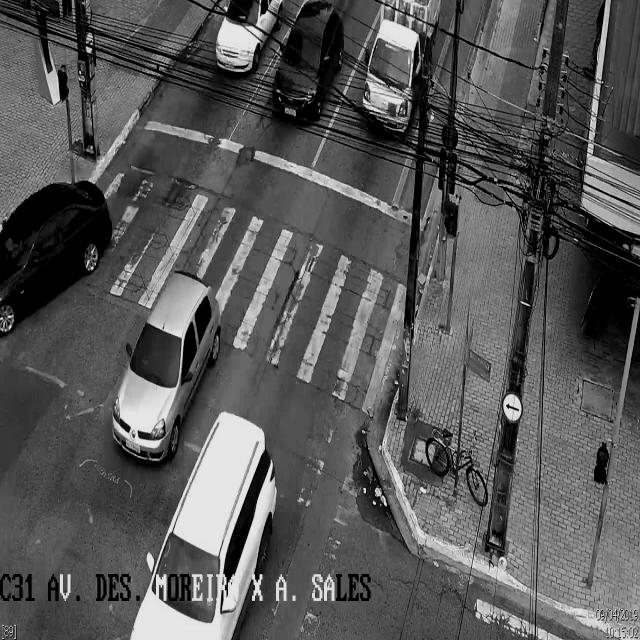Car: (129, 412, 277, 639), (110, 270, 220, 467), (1, 180, 112, 336), (271, 1, 343, 124), (215, 2, 283, 74)
Truck: (364, 0, 436, 134)
